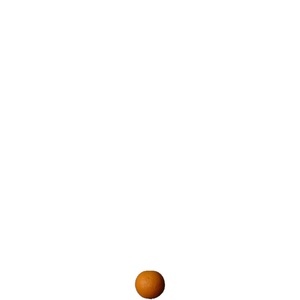laranja: (131, 269, 167, 299)
